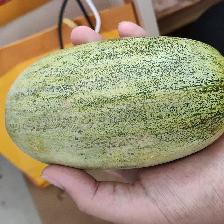gua: (9, 34, 218, 170)
